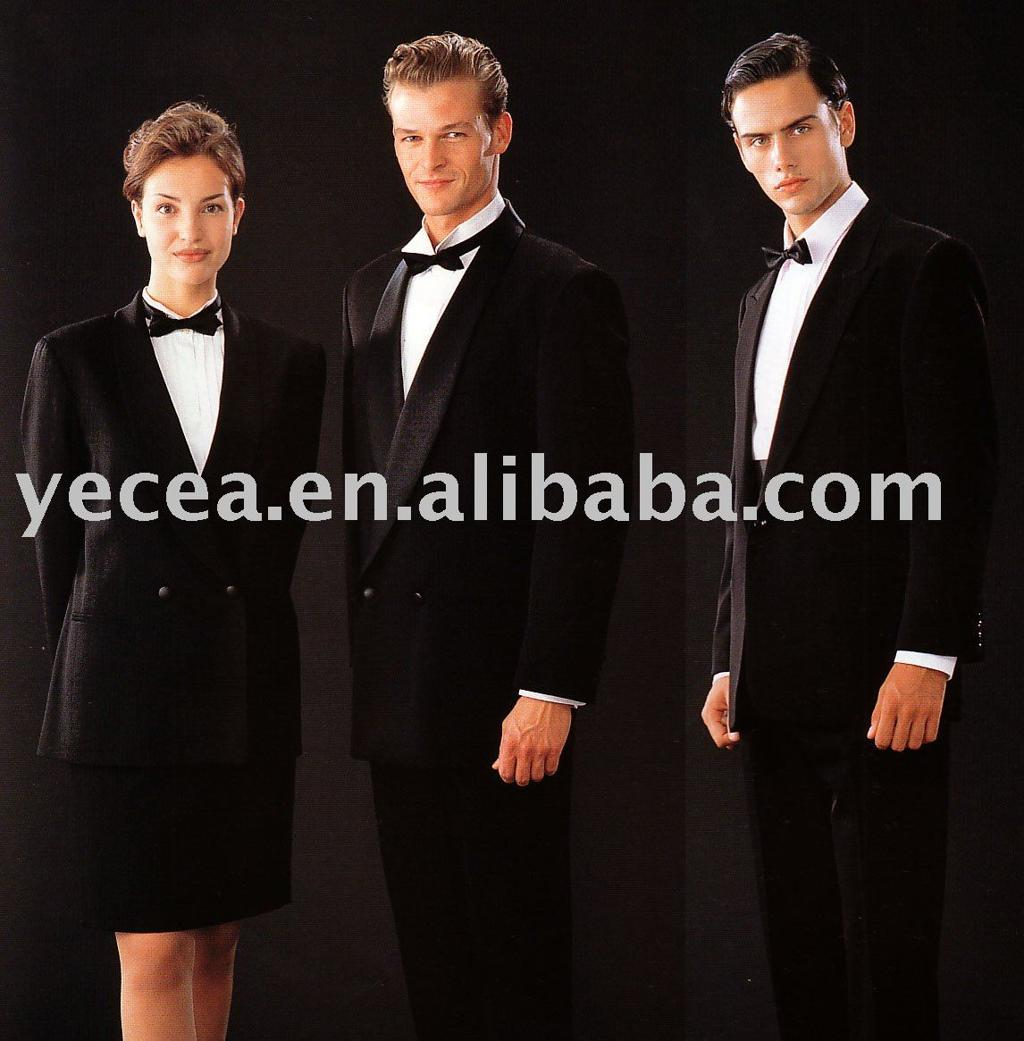face: (727, 81, 843, 215), (390, 81, 490, 217), (142, 148, 233, 284)
